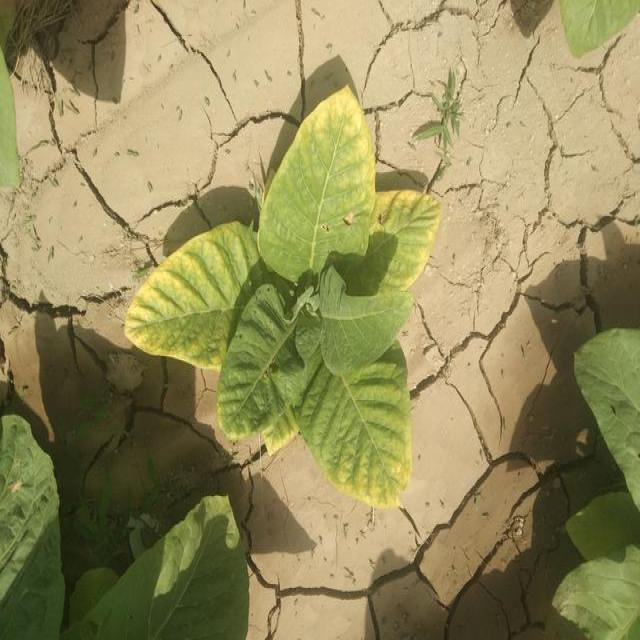crop: (121, 91, 442, 502), (556, 335, 640, 640), (76, 512, 248, 640), (0, 425, 66, 640), (557, 0, 640, 59)
